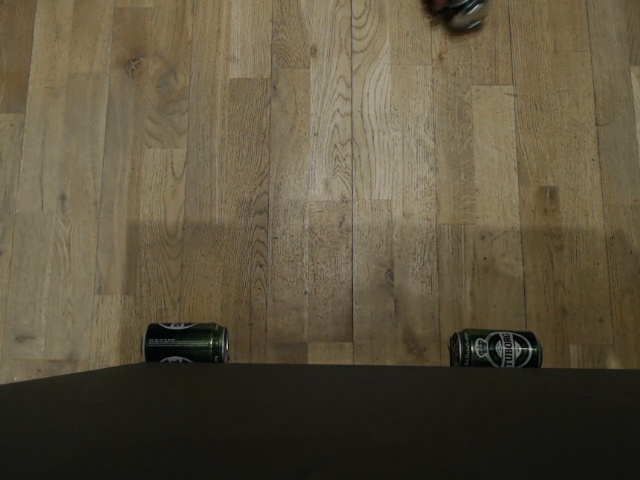beer: (446, 327, 543, 369), (140, 322, 230, 360), (431, 0, 488, 34)
